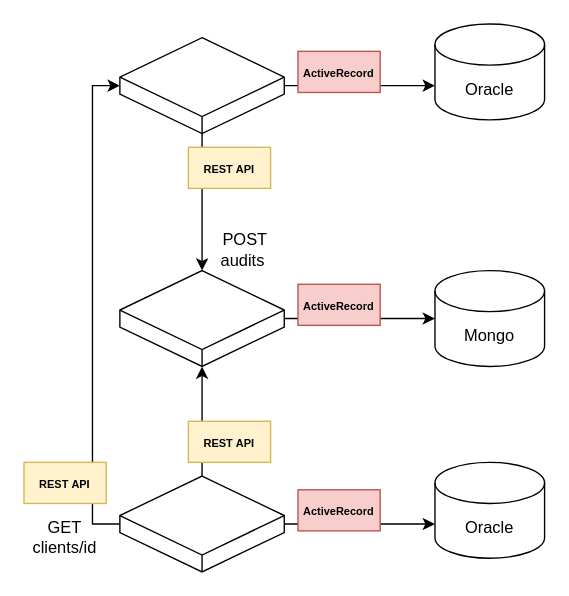
This 569x596 diagram has some shape labels left out. The shapes that lost their labels are listed below. From the top down, each one's centre as x and y in pixels, then its label:
point 201,85: Clients Service
point 201,317: Audits Service
point 201,523: Invoice Service
